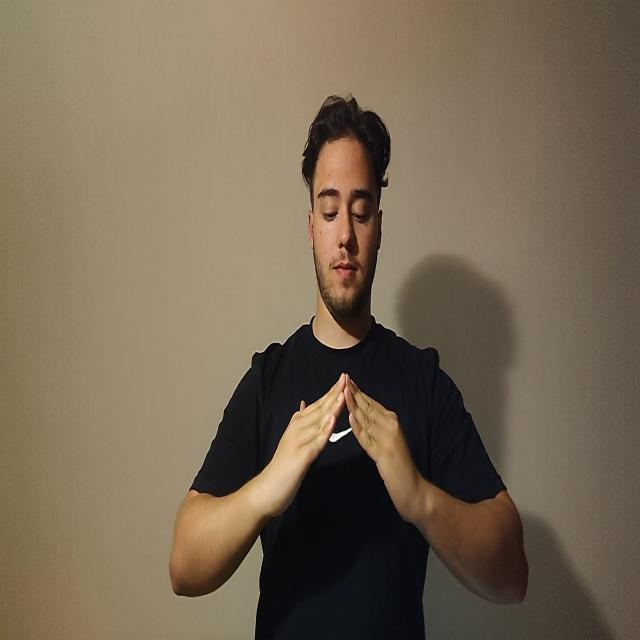house: (259, 371, 425, 535)
